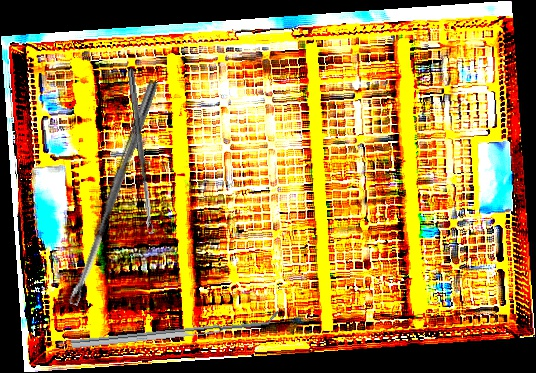Spatula Surgical: (70, 310, 280, 349)
Surgical Spoon: (67, 78, 159, 307), (126, 66, 154, 235)
